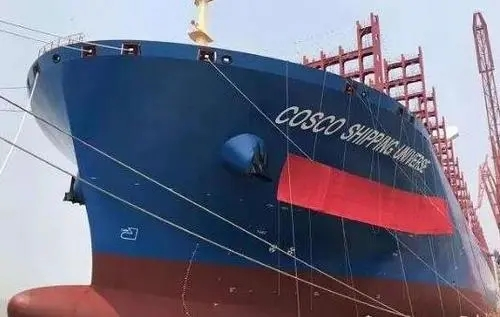Cargoship: (14, 16, 500, 317)
